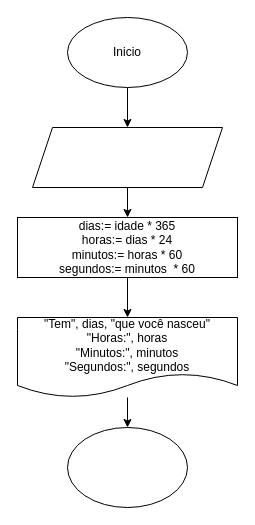
Some shapes in this 255 by 525 pixel diagram are drawn without their labels. The box of each missing label's shape, as (x1, y1, x2, y2) in pixels:
"Informe a sua idade:", idade: (32, 126, 222, 188)
Fim: (66, 426, 188, 508)
